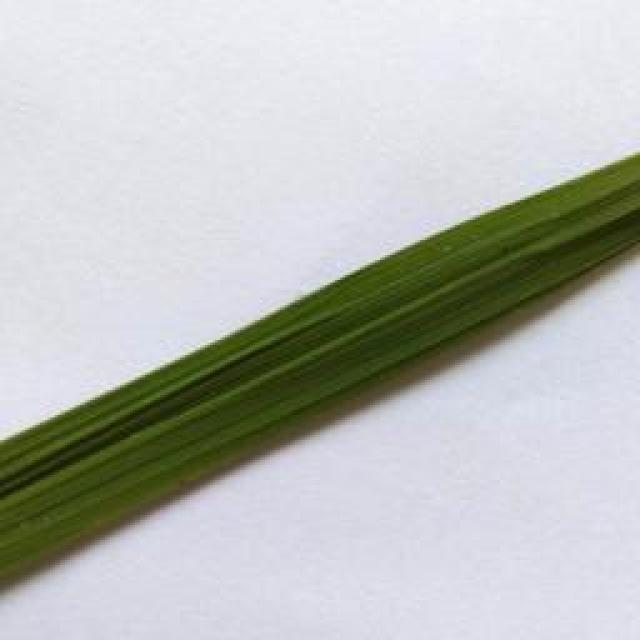Healthy-Plant: (0, 143, 640, 597)
